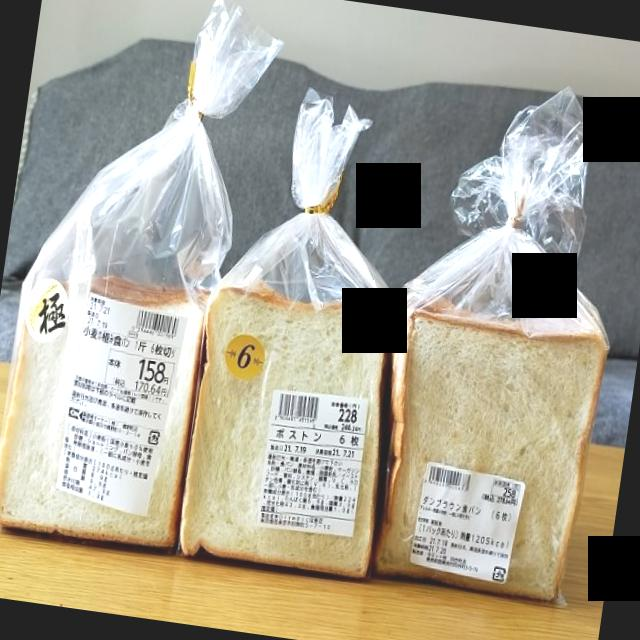bread: (0, 4, 280, 556), (371, 90, 611, 608), (178, 87, 399, 584)
